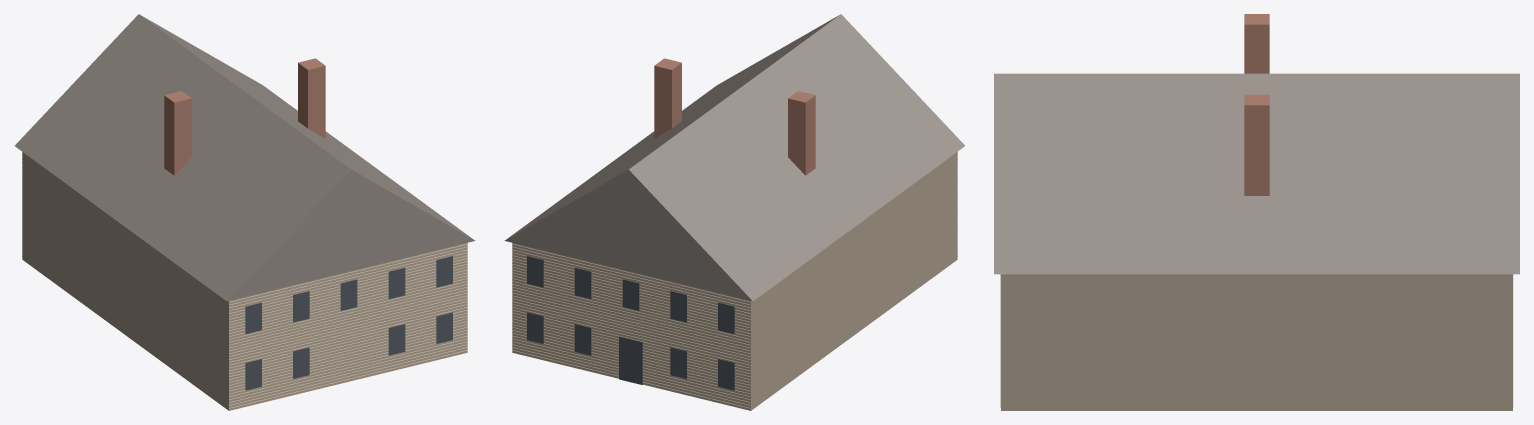
The model's file is western_hotel__frame_1834.glb.
3 views of the same model, side by side, from view 1: azimuth 30°, elevation 25°; view 2: azimuth 150°, elevation 25°; view 3: azimuth 270°, elevation 25° (orthographic). The views are drawn at different scales.
Parts seen in each view (by area): view 1: western_hotel__frame_1834; view 2: western_hotel__frame_1834; view 3: western_hotel__frame_1834.
Boxes of the visible parts, x1,y1,x2,y2 form: western_hotel__frame_1834: (15, 14, 475, 410); western_hotel__frame_1834: (504, 14, 964, 410); western_hotel__frame_1834: (994, 14, 1519, 410).
Bounding box in the file's own units: 12.69 × 11.01 × 18.79.
